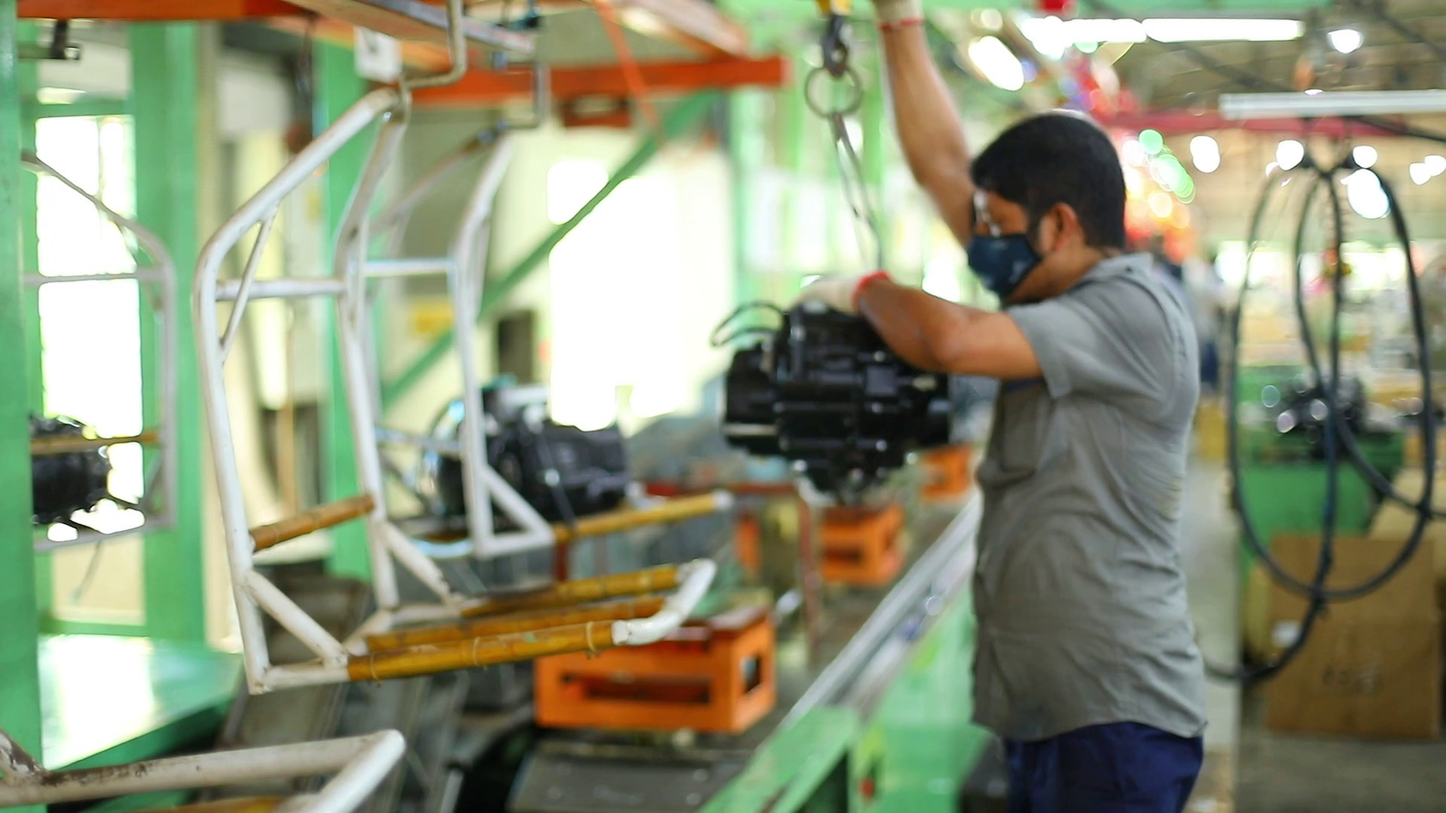mask: (966, 232, 1041, 298)
person: (798, 2, 1210, 813)
